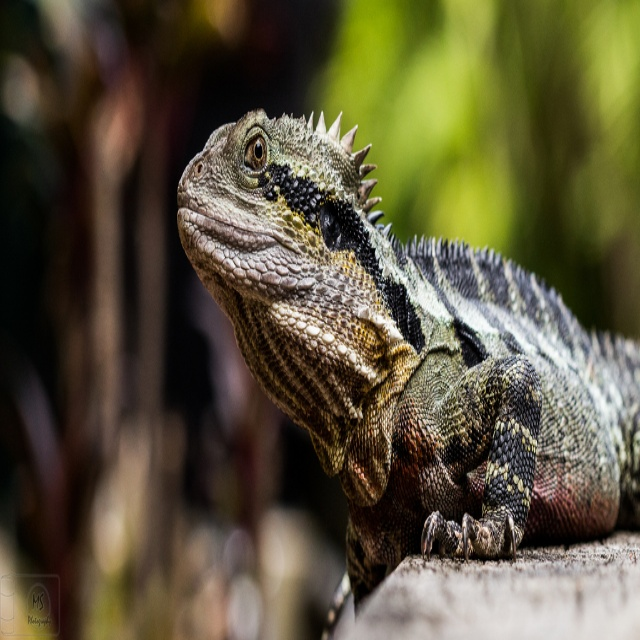Lizard: (206, 77, 639, 627)
